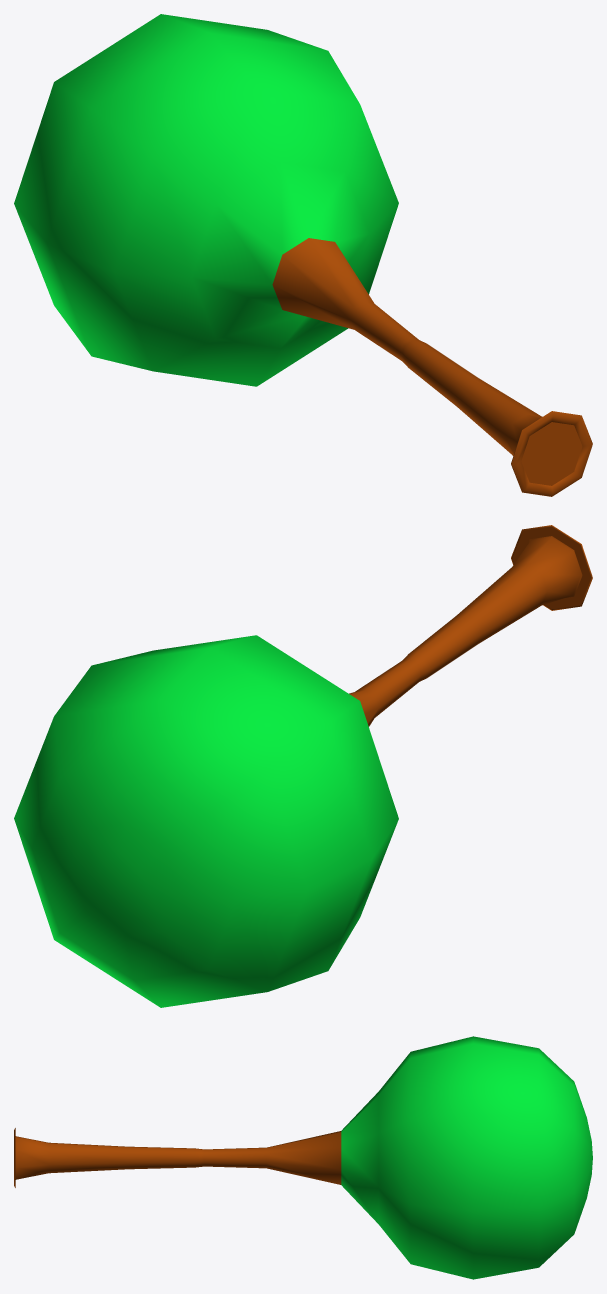
File: Tree1.fbx
The picture shows the model from 3 angles, top to bottom: view 1: azimuth 30°, elevation 25°; view 2: azimuth 150°, elevation 25°; view 3: azimuth 270°, elevation 25°; orthographic projection. The views are drawn at different scales.
Visible parts, largest first — view 1: Cube; view 2: Cube; view 3: Cube.
Part boxes in pixels (box(x1,y1,x2,y2)): Cube: box(14, 14, 592, 496); Cube: box(14, 525, 592, 1007); Cube: box(14, 1036, 592, 1279).
Size of the model in its own units: 727 by 727 by 1672.
